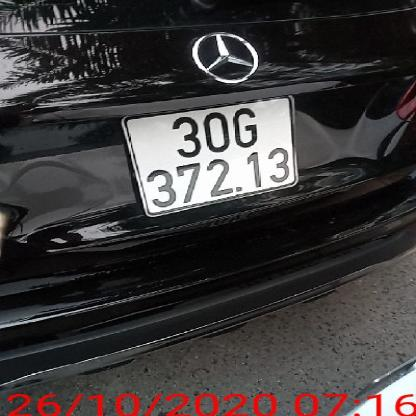biensoxe: (121, 95, 300, 216)
